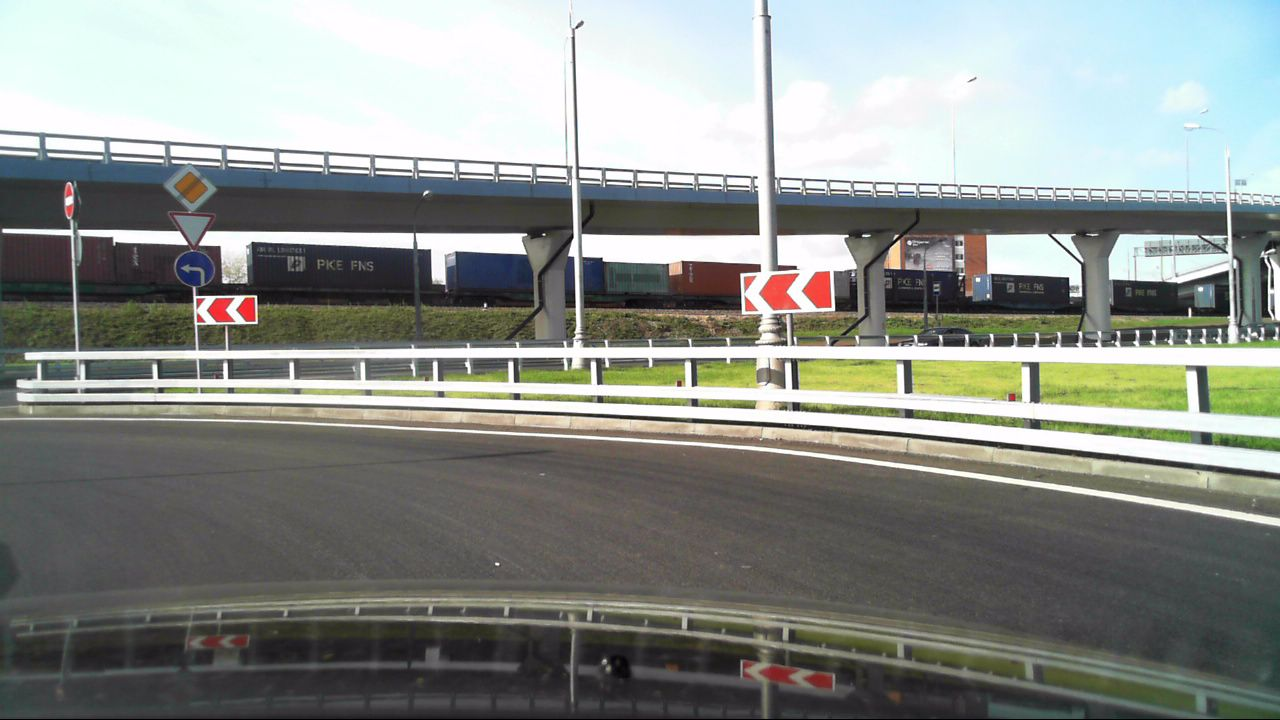main road: (162, 160, 221, 210)
